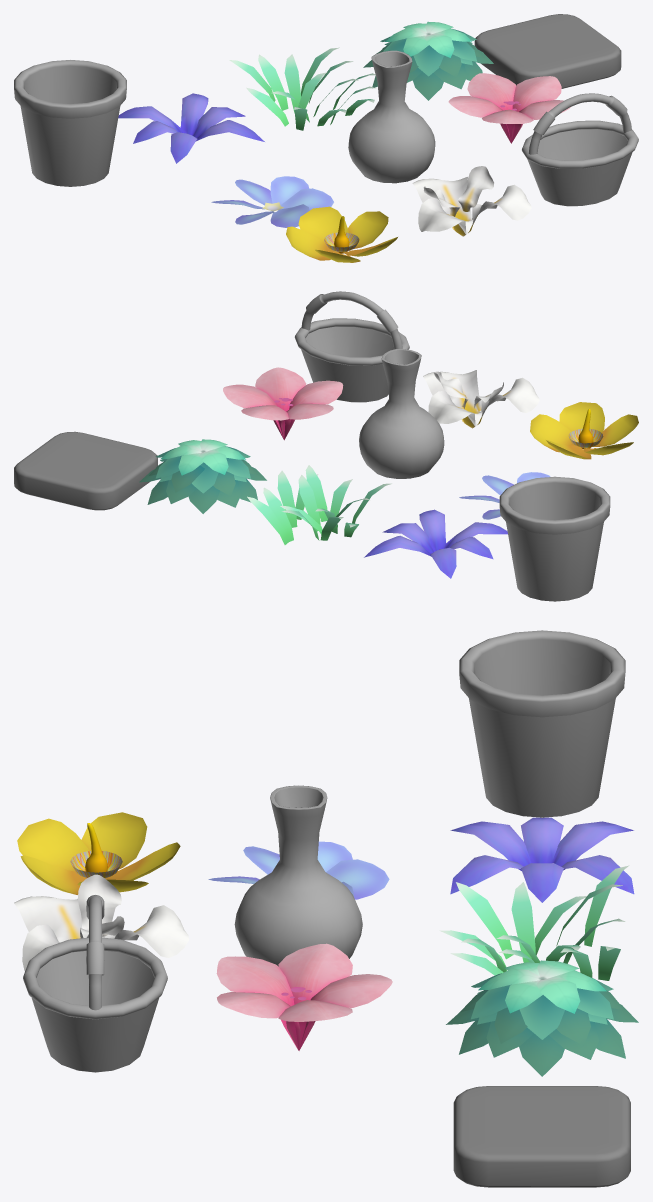
Rendered from Porps luis.fbx.
3 views of the same model, one above another, from view 1: azimuth 30°, elevation 25°; view 2: azimuth 150°, elevation 25°; view 3: azimuth 270°, elevation 25° (orthographic). The views are drawn at different scales.
Parts seen in each view (by area): view 1: Jarron, Canasta, vidrio, florero, Arbusto, Iirs, petunia, Hypercirum, Pasto, Jacinto, Forget_me_not; view 2: Jarron, vidrio, Canasta, florero, Arbusto, petunia, Pasto, Hypercirum, Iirs, Jacinto, Forget_me_not; view 3: Jarron, vidrio, Canasta, Arbusto, florero, petunia, Hypercirum, Jacinto, Pasto, Iirs, Forget_me_not.
Boxes of the visible parts, x1=… form: Jarron: x1=14, y1=60, x2=126, y2=186; Canasta: x1=522, y1=93, x2=638, y2=206; vidrio: x1=474, y1=14, x2=621, y2=88; florero: x1=348, y1=50, x2=435, y2=183; Arbusto: x1=363, y1=21, x2=493, y2=100; Iirs: x1=412, y1=166, x2=531, y2=236; petunia: x1=448, y1=73, x2=570, y2=143; Hypercirum: x1=286, y1=206, x2=397, y2=262; Pasto: x1=229, y1=47, x2=375, y2=130; Jacinto: x1=118, y1=93, x2=264, y2=163; Forget_me_not: x1=211, y1=176, x2=333, y2=227; Jarron: x1=499, y1=476, x2=610, y2=601; vidrio: x1=14, y1=431, x2=157, y2=510; Canasta: x1=294, y1=291, x2=409, y2=402; florero: x1=359, y1=349, x2=444, y2=478; Arbusto: x1=139, y1=439, x2=266, y2=513; petunia: x1=223, y1=367, x2=343, y2=440; Pasto: x1=247, y1=465, x2=391, y2=544; Hypercirum: x1=530, y1=402, x2=638, y2=459; Iirs: x1=423, y1=370, x2=539, y2=428; Jacinto: x1=364, y1=509, x2=507, y2=578; Forget_me_not: x1=459, y1=472, x2=550, y2=519; Jarron: x1=459, y1=630, x2=625, y2=817; vidrio: x1=453, y1=1086, x2=630, y2=1187; Canasta: x1=23, y1=895, x2=167, y2=1072; Arbusto: x1=446, y1=960, x2=638, y2=1076; florero: x1=234, y1=785, x2=362, y2=966; petunia: x1=216, y1=943, x2=392, y2=1050; Hypercirum: x1=17, y1=812, x2=180, y2=894; Jacinto: x1=450, y1=817, x2=634, y2=902; Pasto: x1=439, y1=865, x2=629, y2=980; Iirs: x1=14, y1=874, x2=189, y2=970; Forget_me_not: x1=208, y1=841, x2=389, y2=899.
Bounding box in the file's own units: 243 × 50.09 × 154.
